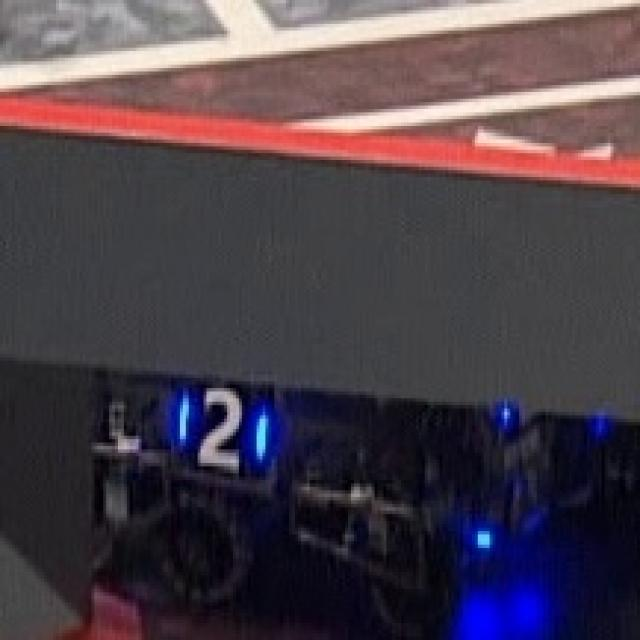B2: (160, 378, 276, 480)
